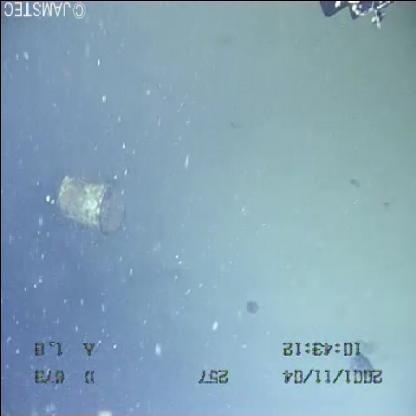Rov: (306, 1, 409, 30)
Rác: (50, 172, 130, 235)
